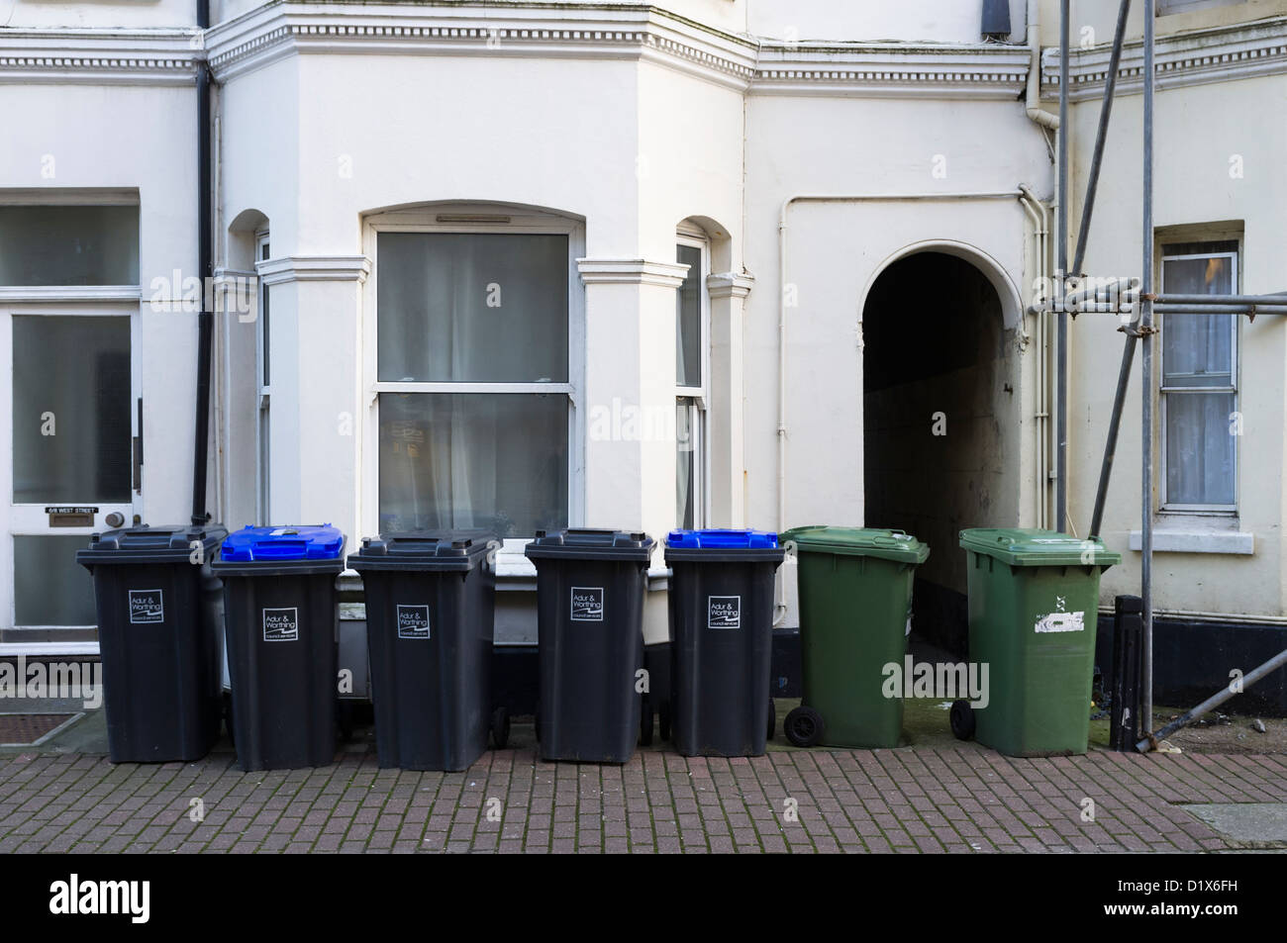partial: (216, 523, 345, 564)
